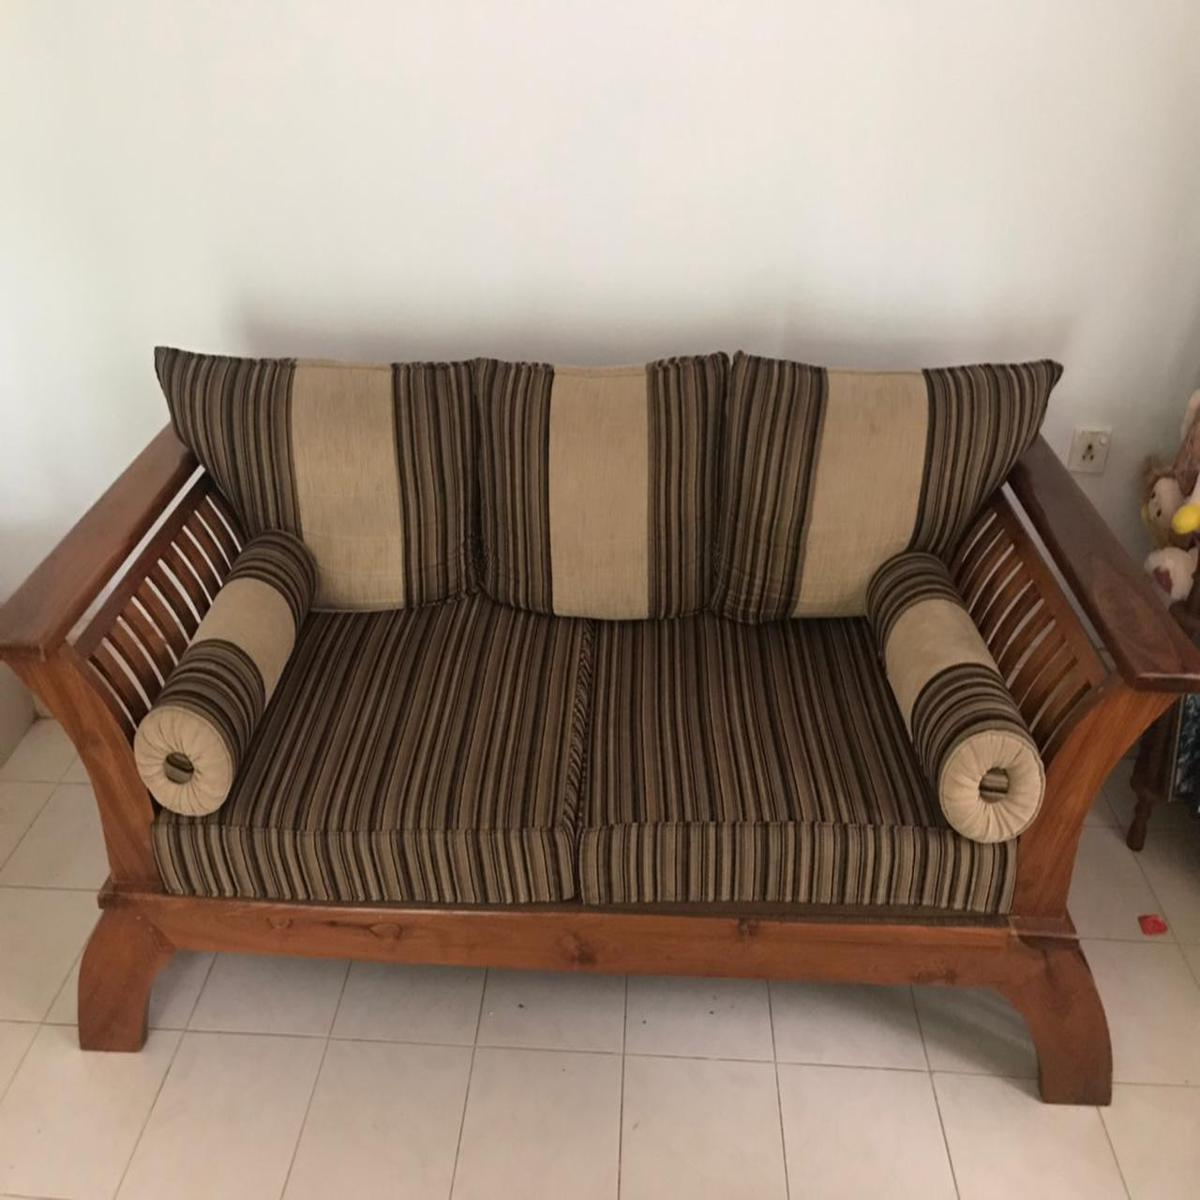Sofa: (8, 355, 1193, 1104)
